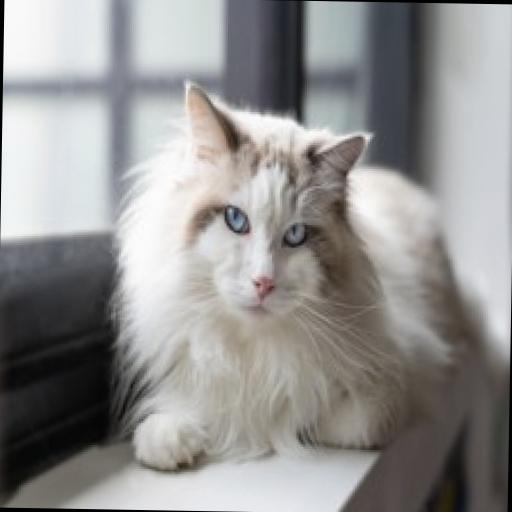cat: (94, 88, 512, 506)
